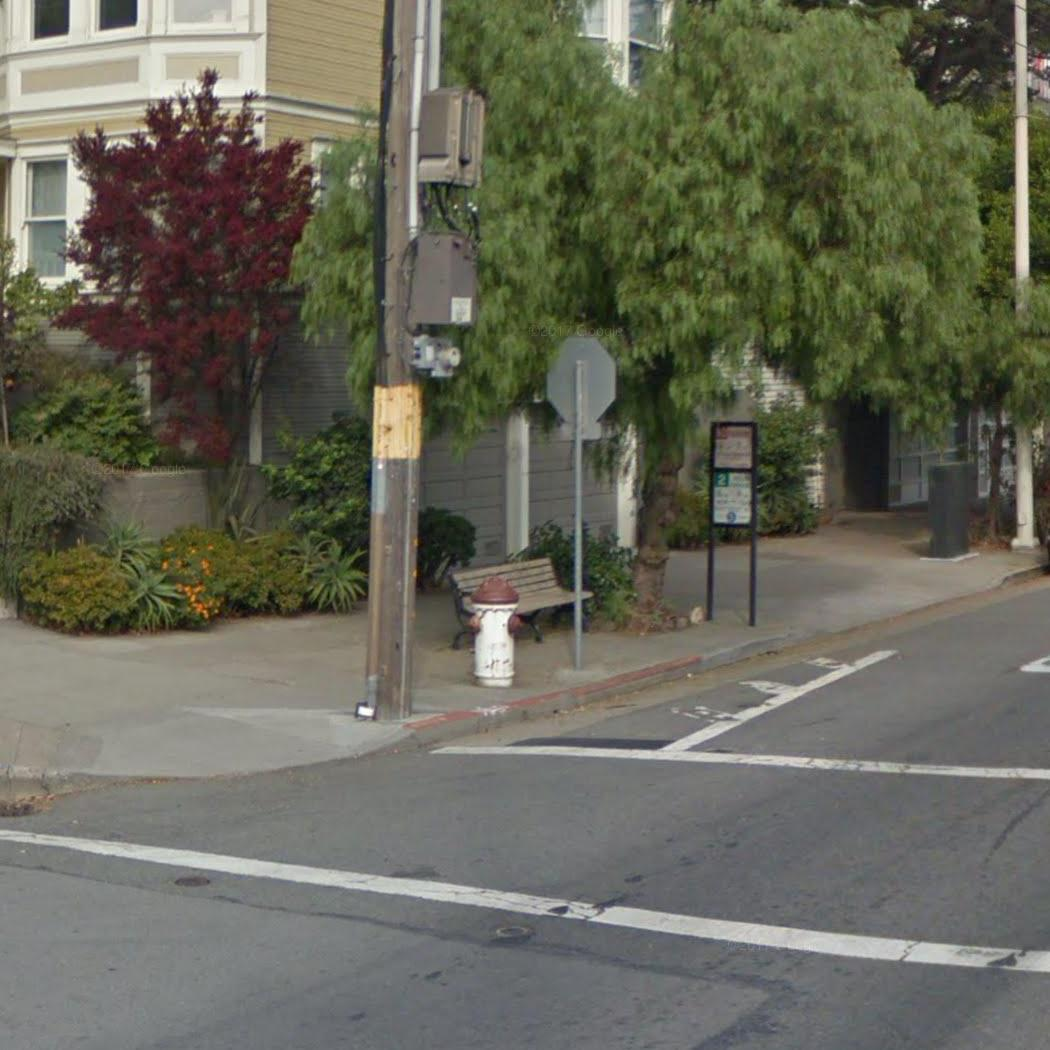2 Hour Parking: (705, 472, 753, 525)
No Parking: (710, 417, 751, 472)
